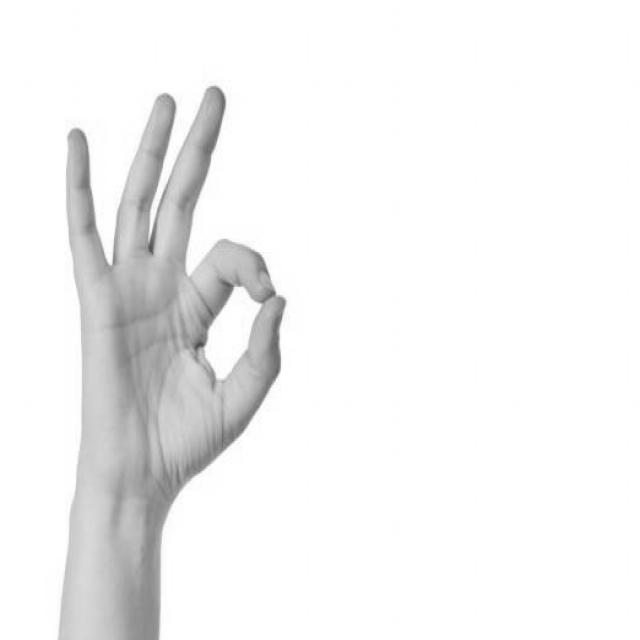perfect: (58, 76, 292, 537)
